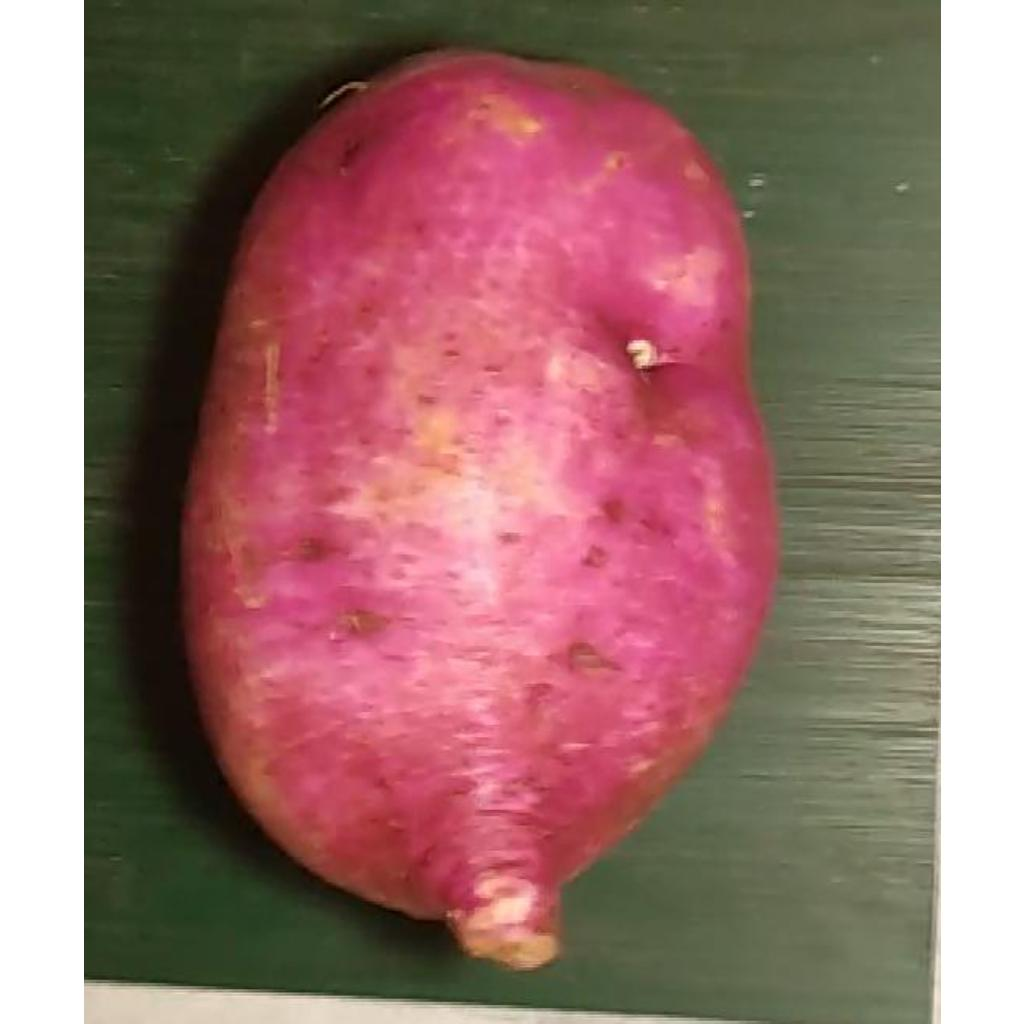Sweet Potato: (184, 50, 773, 970)
